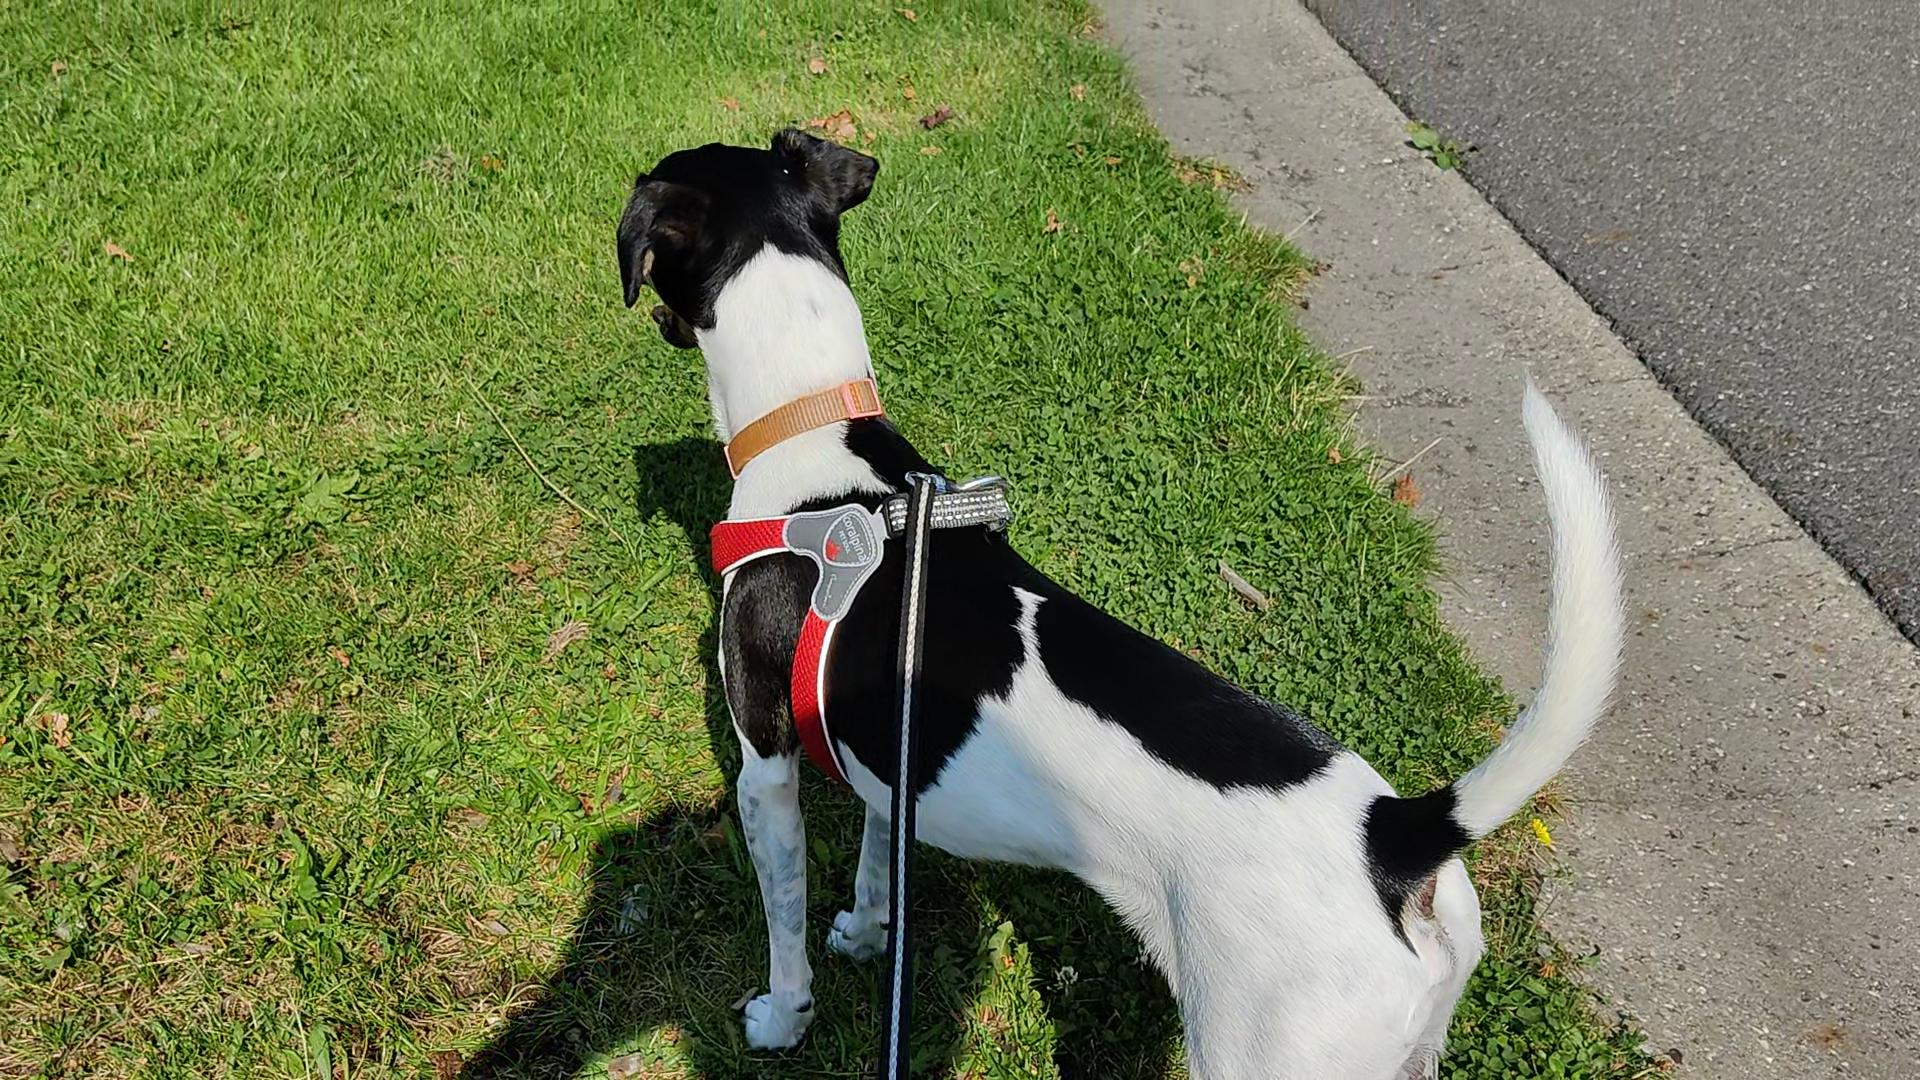Dog: (597, 98, 1647, 1079)
